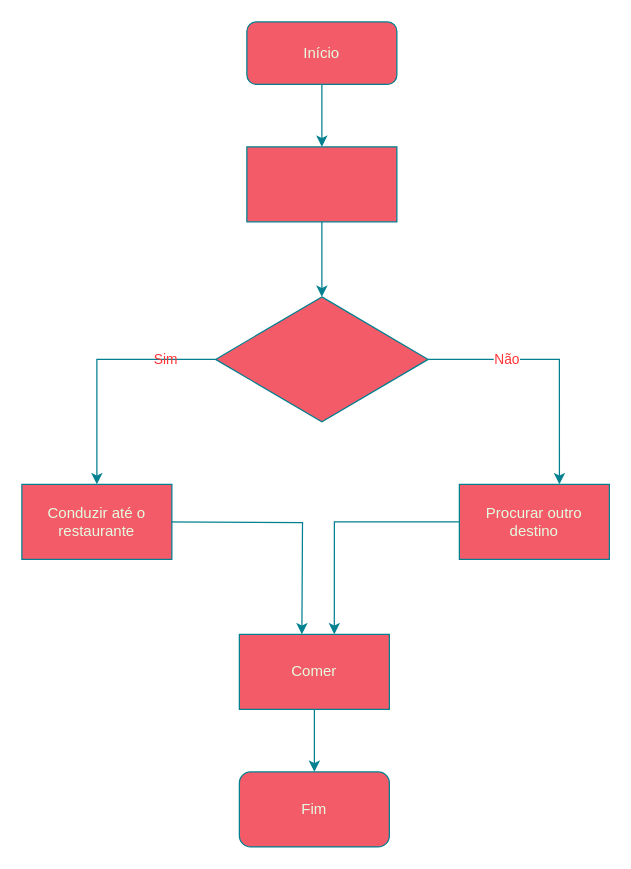
Some shapes in this 631 by 869 pixel diagram are drawn without their labels. The shapes that lost their labels are listed below. From the top down, each one's centre as x and y in pixels, then its label:
At pixel 321 184: "Fazer reserva no restaurante".
At pixel 321 359: "Há vagas disponíveis?".
